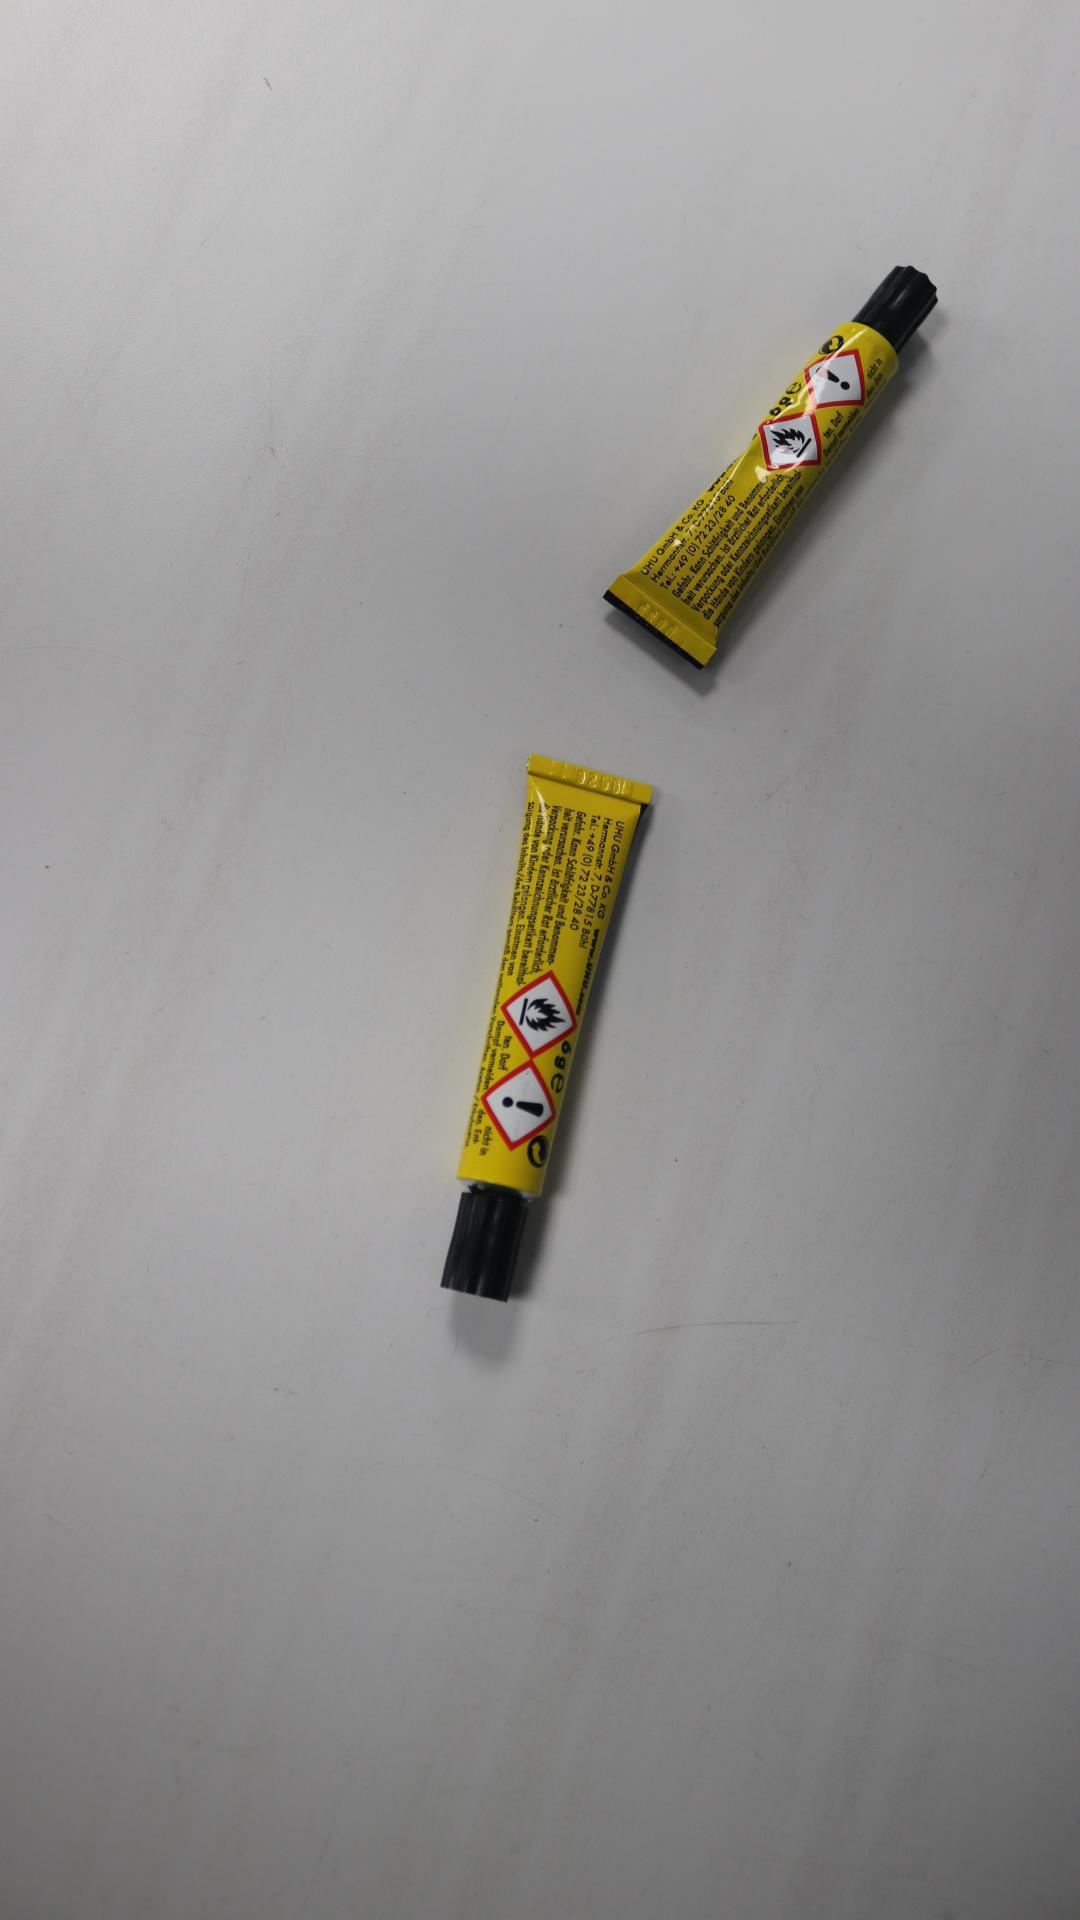Head: (480, 1235, 495, 1250), (892, 302, 904, 314)
Tail: (654, 611, 673, 634), (582, 771, 601, 788)
Tube: (601, 266, 940, 671), (440, 754, 655, 1302)
